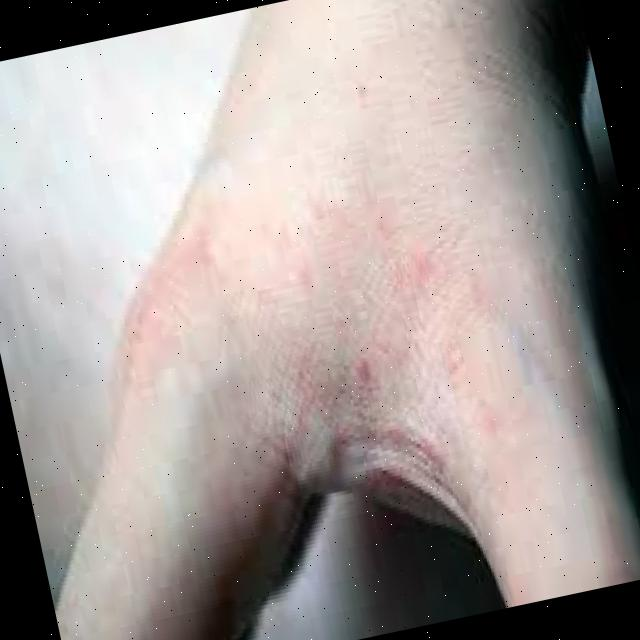kan emici bocekler: (136, 255, 247, 385), (454, 297, 533, 427), (388, 408, 455, 495), (315, 186, 376, 257), (346, 350, 384, 391), (282, 249, 309, 298), (409, 248, 440, 280)
